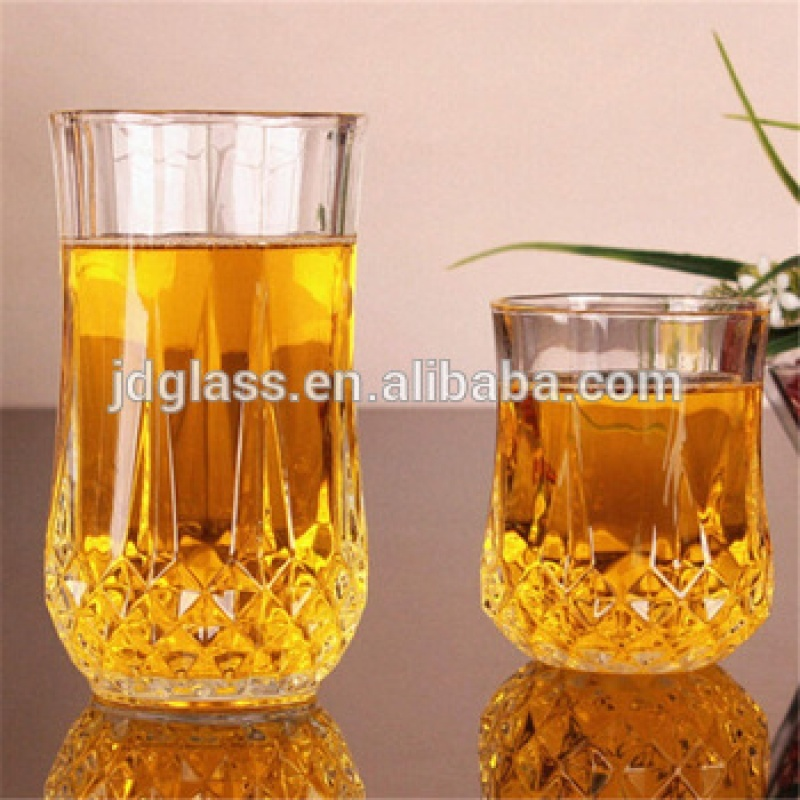whiskey: (52, 104, 372, 714), (493, 294, 775, 661)
